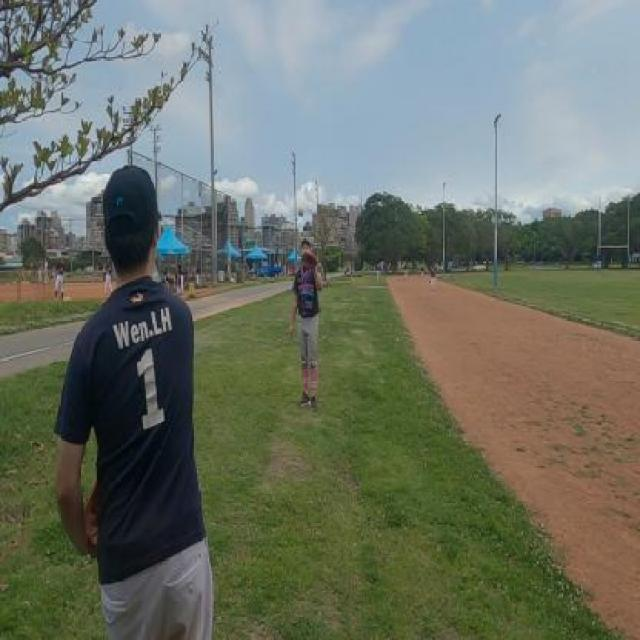baseball: (298, 205, 304, 218)
